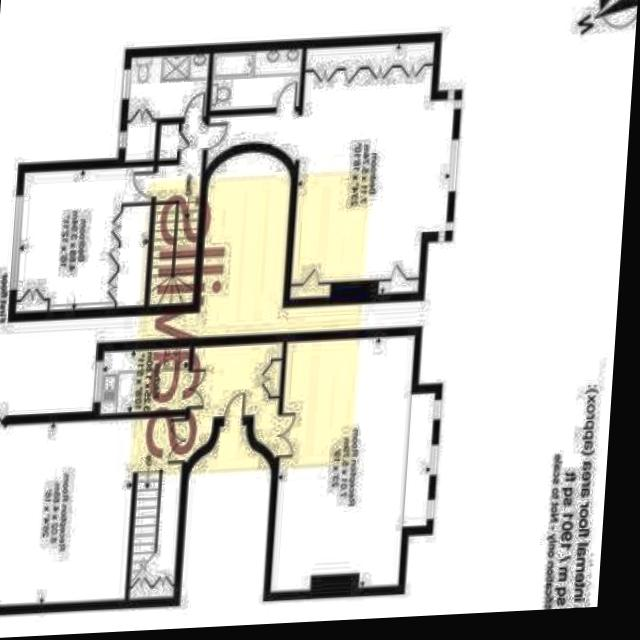room: (0, 342, 295, 607), (198, 40, 464, 305), (269, 327, 438, 602), (14, 158, 153, 323), (148, 117, 204, 310), (94, 347, 192, 416), (206, 49, 305, 111), (124, 53, 212, 120), (124, 118, 156, 165), (157, 122, 178, 162)
